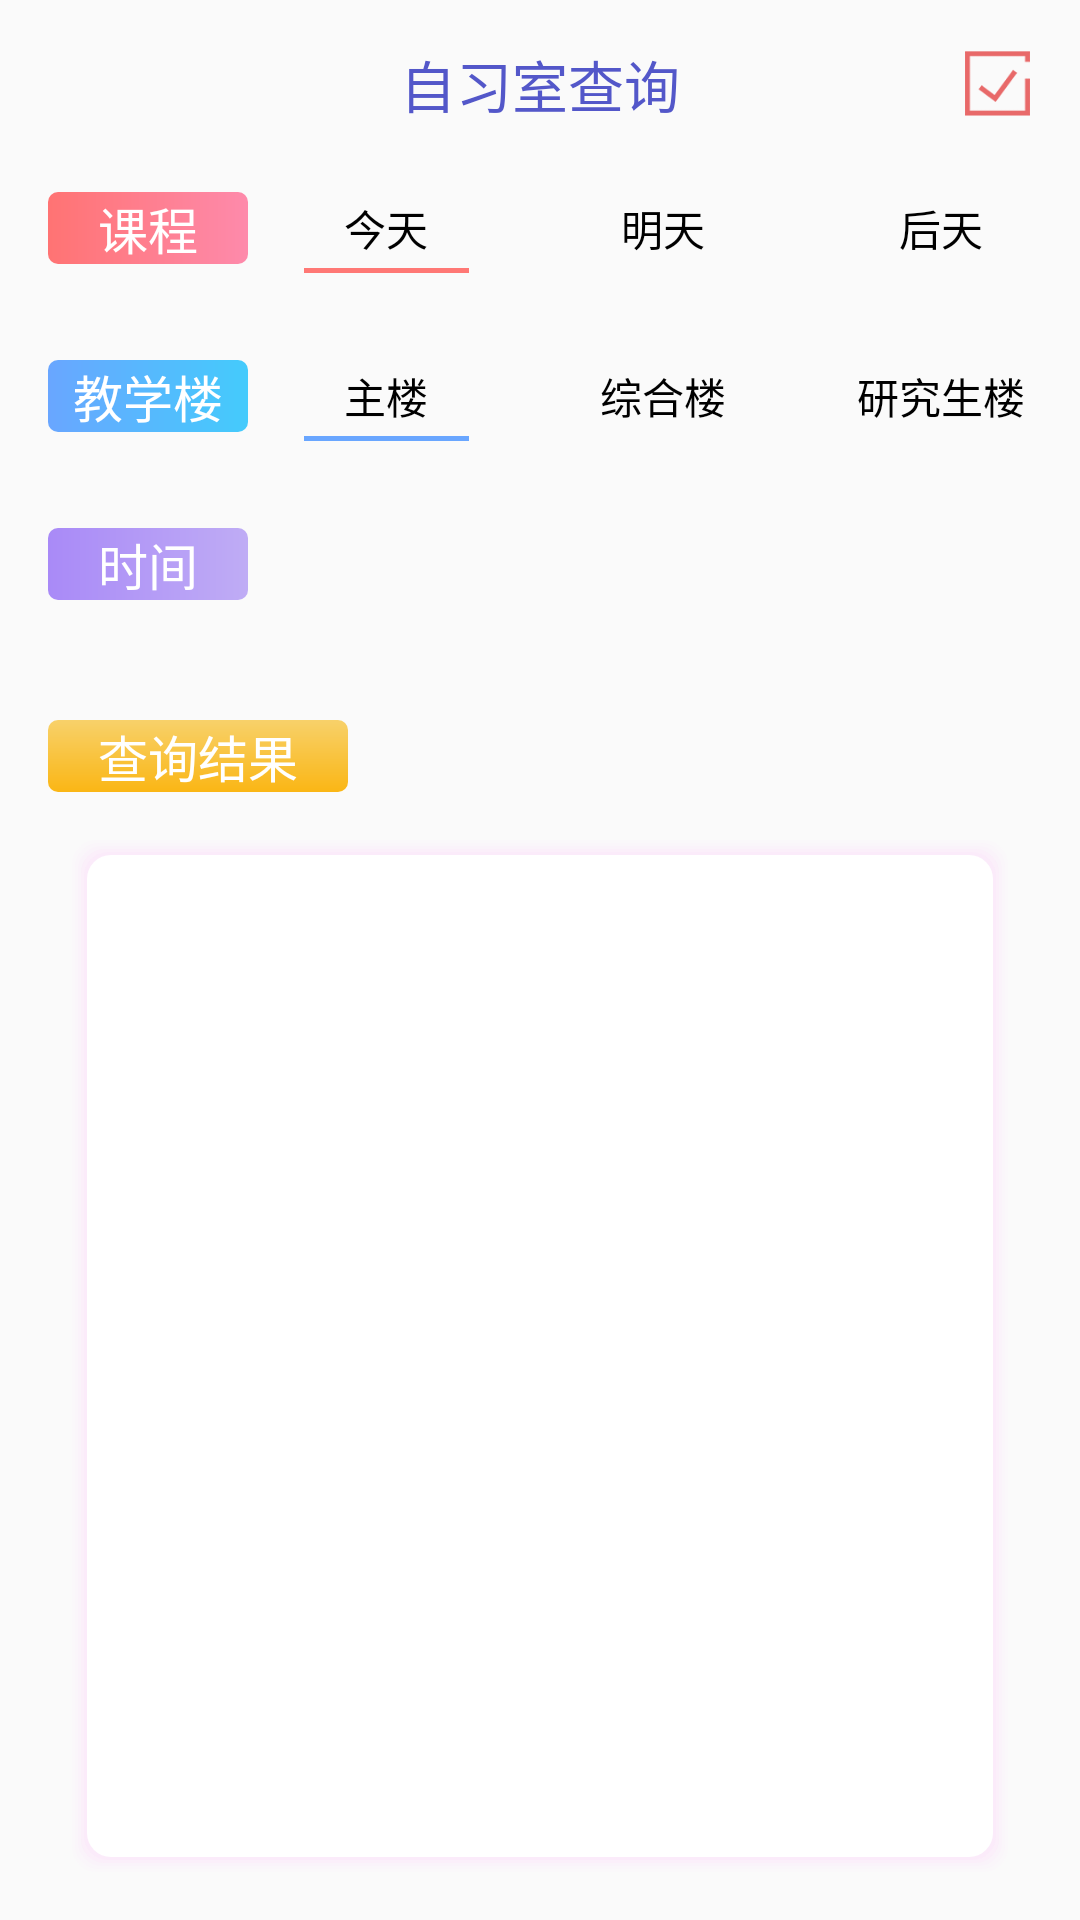

Icon click points for this 1080×1920 phone screenshot, format [x,y]:
save: [997,83]
